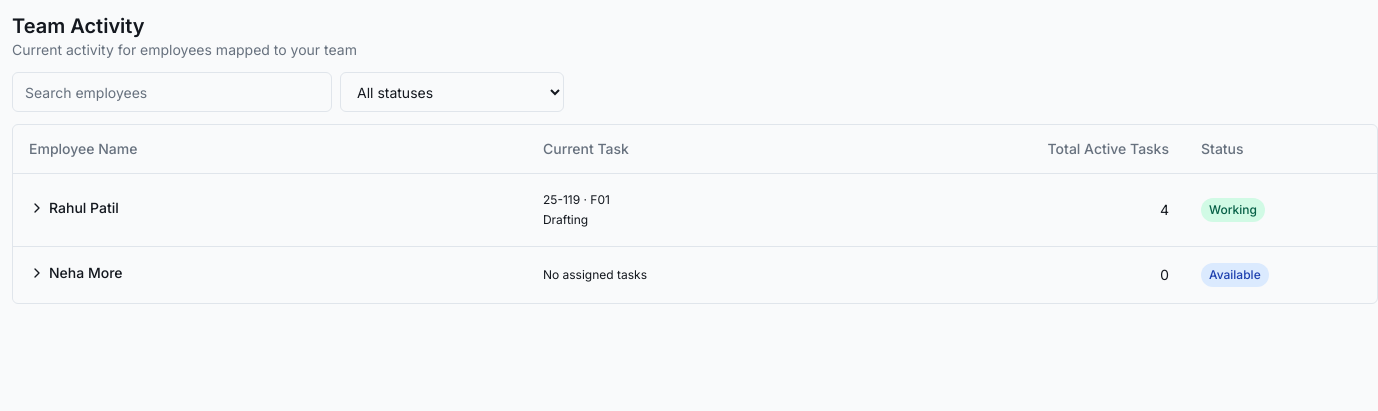
Test case: Team Activity › expands an employee into scoped task details and a proof link
Click the text "Rahul Patil".
click(74, 208)  # box [29, 198, 119, 218]
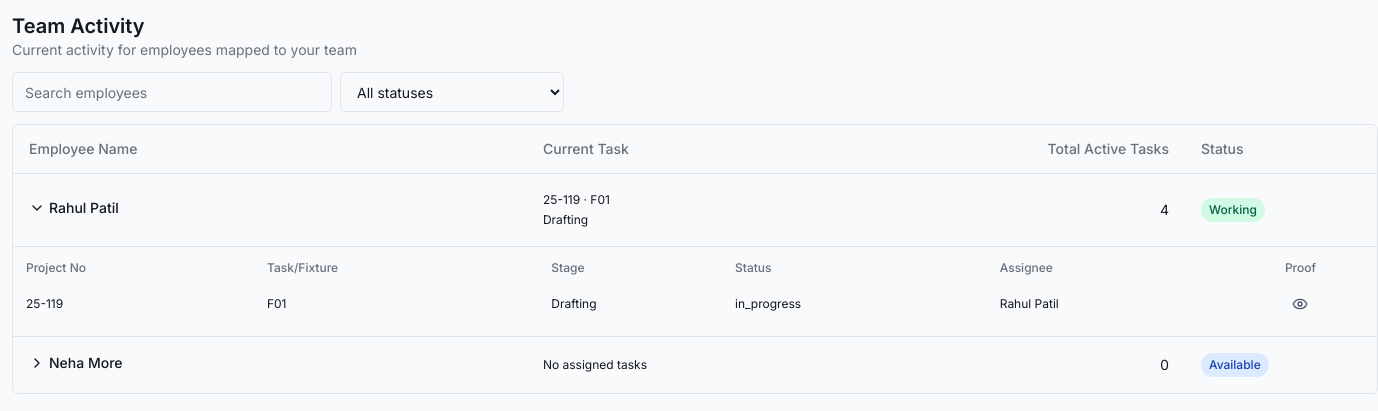
Result: the column heading "Task/Fixture" is shown at [266, 258, 550, 284]
Result: the text "F01" is shown at [266, 284, 550, 324]
